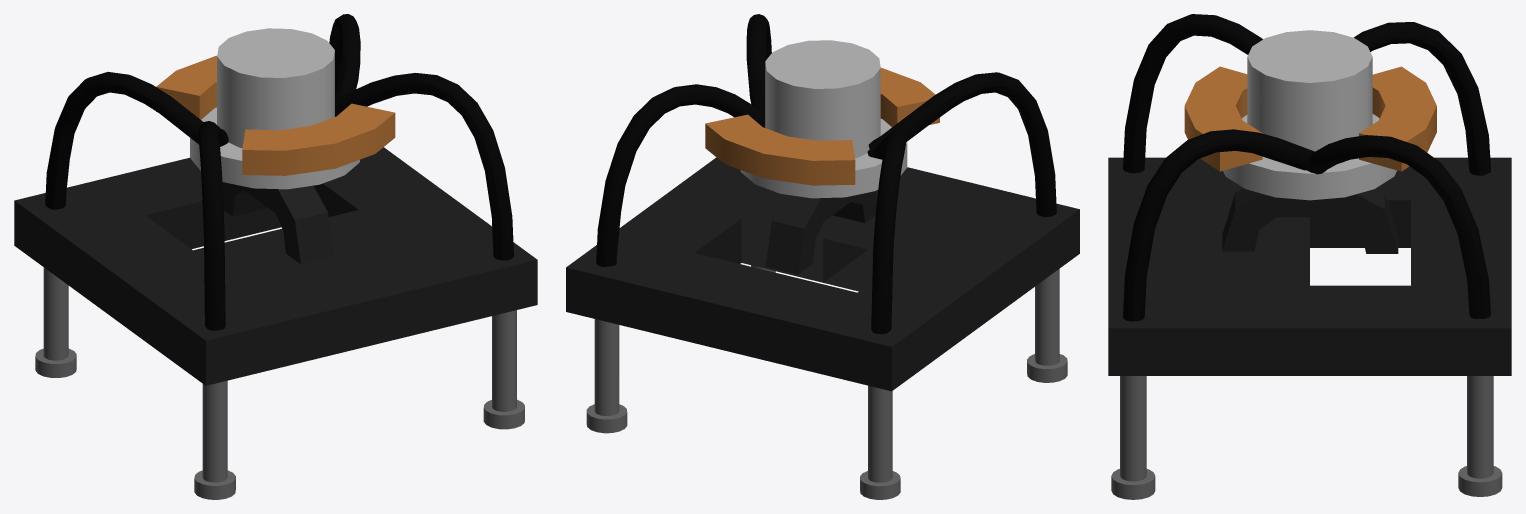
The model's file is Arm_024d.gltf.
3 views of the same model, side by side, from view 1: azimuth 30°, elevation 25°; view 2: azimuth 150°, elevation 25°; view 3: azimuth 270°, elevation 25° (orthographic). The views are drawn at different scales.
Visible parts, largest first — view 1: Cylinder.101; view 2: Cylinder.101; view 3: Cylinder.101.
Boxes of the visible parts, x1,y1,x2,y2 form: Cylinder.101: (14,14,537,499); Cylinder.101: (566,14,1079,499); Cylinder.101: (1108,14,1511,499).
Bounding box in the file's own units: 0.8257 × 0.8118 × 0.8257.
